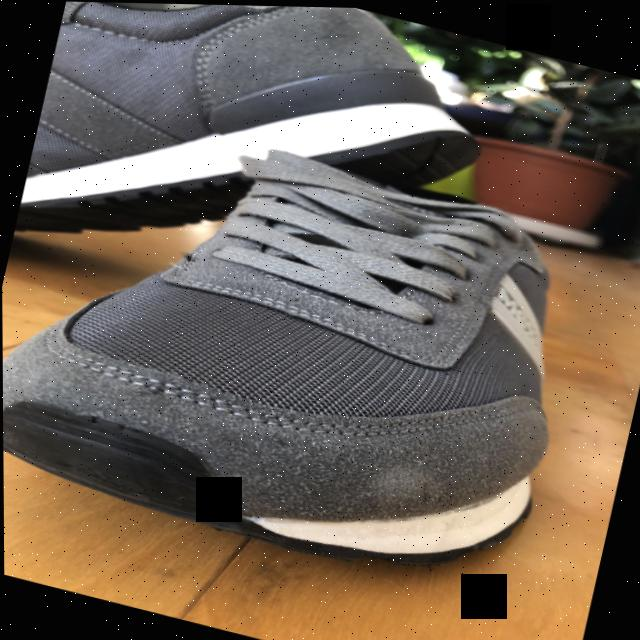shoes: (1, 93, 598, 601), (12, 0, 507, 338)
